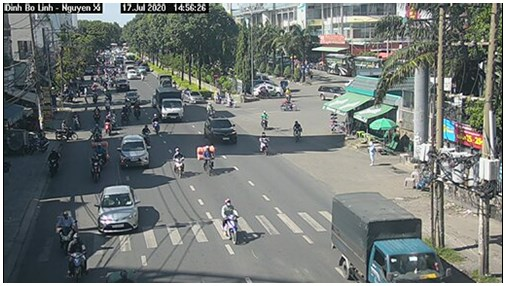di_bo: (367, 138, 377, 167)
xe_hoi: (96, 184, 143, 236), (117, 135, 151, 171), (202, 117, 238, 147), (184, 89, 205, 106), (123, 89, 142, 104), (114, 77, 131, 92)
xe_may: (66, 233, 88, 281), (220, 198, 241, 244), (54, 211, 76, 250), (196, 143, 214, 177), (53, 119, 78, 143), (172, 145, 185, 179), (90, 141, 109, 164), (88, 153, 101, 183), (87, 120, 101, 143), (48, 148, 59, 177), (256, 110, 271, 131), (292, 119, 304, 142), (259, 130, 269, 156), (141, 124, 152, 146), (119, 105, 131, 125), (89, 105, 102, 123), (204, 101, 216, 119), (151, 111, 159, 135), (132, 101, 141, 121), (103, 115, 111, 134)
xe_tai: (332, 192, 453, 283), (154, 86, 185, 123)
